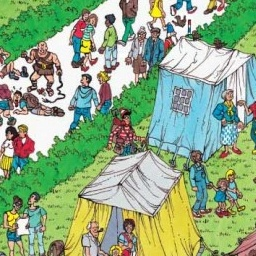waldo: (113, 107, 143, 149), (117, 108, 133, 127)
